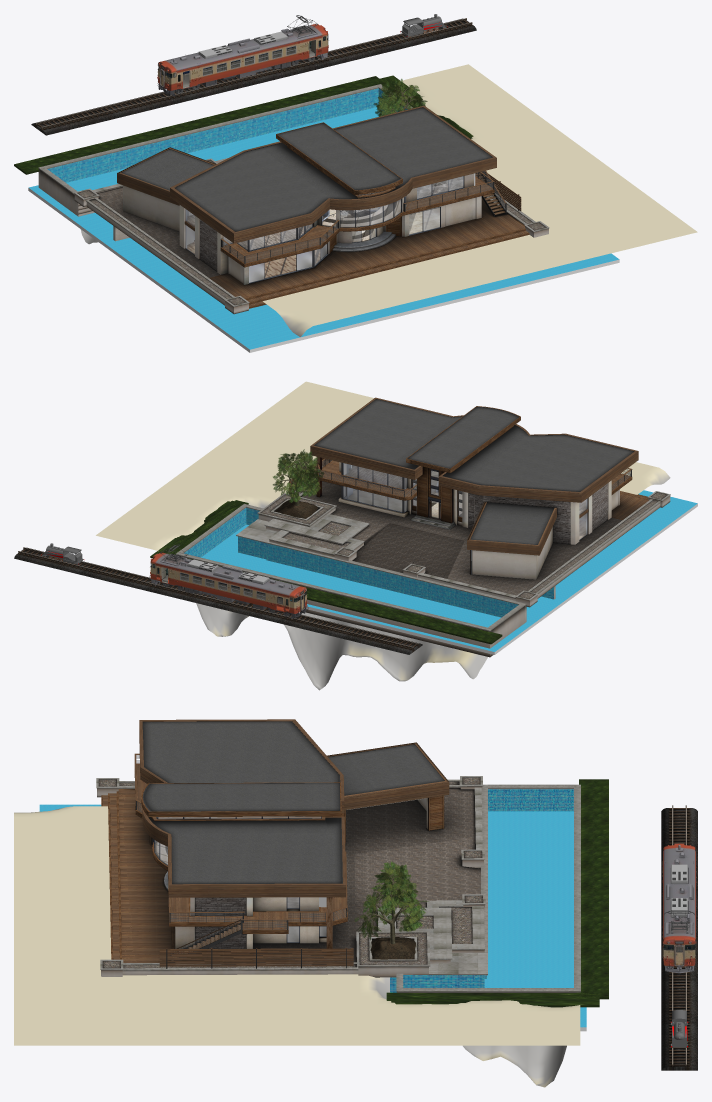
3 renders of one model, top to bottom at view 1: azimuth 30°, elevation 25°; view 2: azimuth 150°, elevation 25°; view 3: azimuth 270°, elevation 25°, orthographic. The views are drawn at different scales.
Visible parts, largest first — view 1: Compulsion - Fairlight House (×15), Terrain 1,3, Taille Maison, TRACKSTRAIGHT32 Rail (×6), 14 -Culco- Last Stop - Tram -Two Tone -Orange 97Li, Object, Tree small, Steam Locomotive; view 2: Compulsion - Fairlight House (×9), Terrain 1,3, Taille Maison, TRACKSTRAIGHT32 Rail (×6), Object (×2), 14 -Culco- Last Stop - Tram -Two Tone -Orange 97Li, Tree small, Steam Locomotive, terre; view 3: Compulsion - Fairlight House (×8), Terrain 1,3, Taille Maison, Object (×2), TRACKSTRAIGHT32 Rail (×4), Tree small, 14 -Culco- Last Stop - Tram -Two Tone -Orange 97Li, terre, Mesh Tree 01-E, Steam Locomotive.
Boxes of the visible parts, x1,y1,x2,y2 form: Compulsion - Fairlight House (×15): (74, 105, 535, 308); Terrain 1,3: (80, 64, 697, 336); Taille Maison: (28, 84, 619, 352); TRACKSTRAIGHT32 Rail (×6): (31, 18, 476, 135); 14 -Culco- Last Stop - Tram -Two Tone -Orange 97Li: (158, 24, 328, 90); Object: (14, 76, 386, 174); Tree small: (373, 78, 427, 116); Steam Locomotive: (400, 14, 447, 37); Compulsion - Fairlight House (×9): (257, 397, 660, 607); Terrain 1,3: (96, 381, 670, 690); Taille Maison: (175, 463, 697, 657); TRACKSTRAIGHT32 Rail (×6): (14, 547, 422, 654); Object (×2): (150, 500, 502, 644); 14 -Culco- Last Stop - Tram -Two Tone -Orange 97Li: (150, 552, 306, 613); Tree small: (273, 449, 324, 502); Steam Locomotive: (41, 543, 84, 564); terre: (275, 500, 317, 518); Compulsion - Fairlight House (×8): (101, 719, 485, 977); Terrain 1,3: (14, 806, 580, 1087); Taille Maison: (39, 784, 586, 1031); Object (×2): (386, 779, 608, 1007); TRACKSTRAIGHT32 Rail (×4): (661, 805, 697, 1070); Tree small: (354, 861, 428, 939); 14 -Culco- Last Stop - Tram -Two Tone -Orange 97Li: (663, 843, 695, 966); terre: (370, 937, 415, 959); Mesh Tree 01-E: (364, 873, 418, 944); Steam Locomotive: (671, 1010, 688, 1047).
Size of what is drawn, in the model's own units: 77.96 by 30.62 by 77.28.
110 materials, 101 textured.
